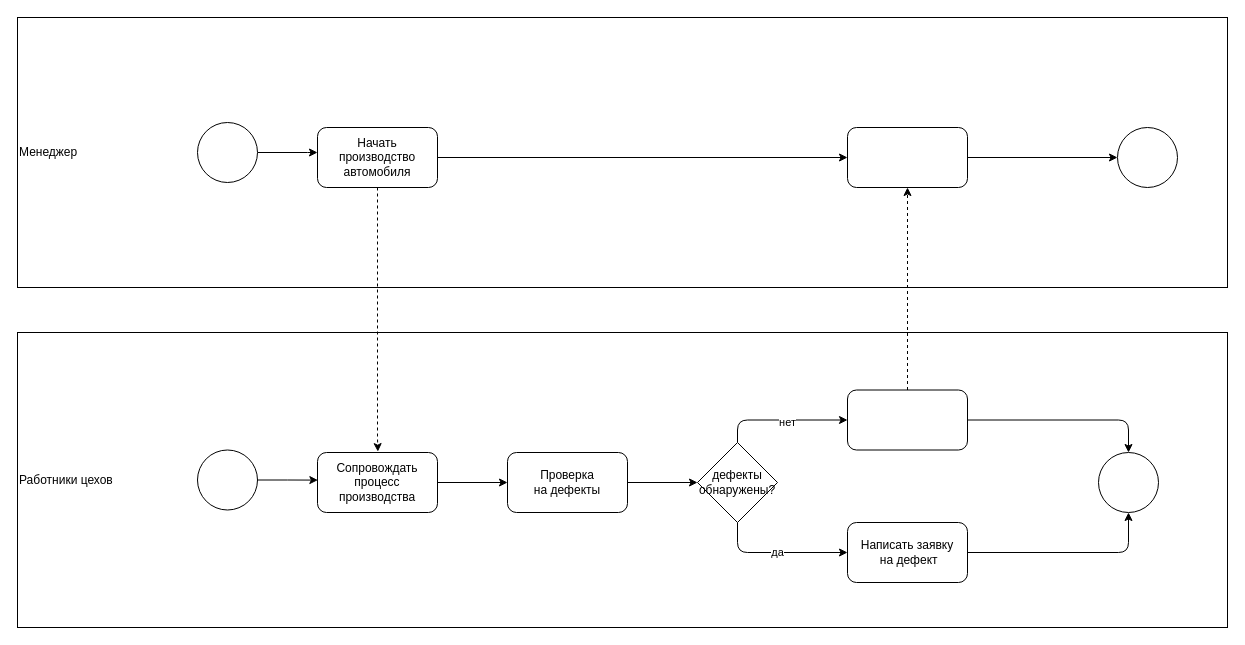
Some shapes in this 1245 by 645 pixel diagram are drawn without their labels. Here are the shapes that lost their labels. From the top down, the box of each, then its label:
(196, 122, 258, 182): запустить произодство
(846, 126, 968, 188): Принять продукт
(846, 389, 968, 450): Сдать менеджеру
